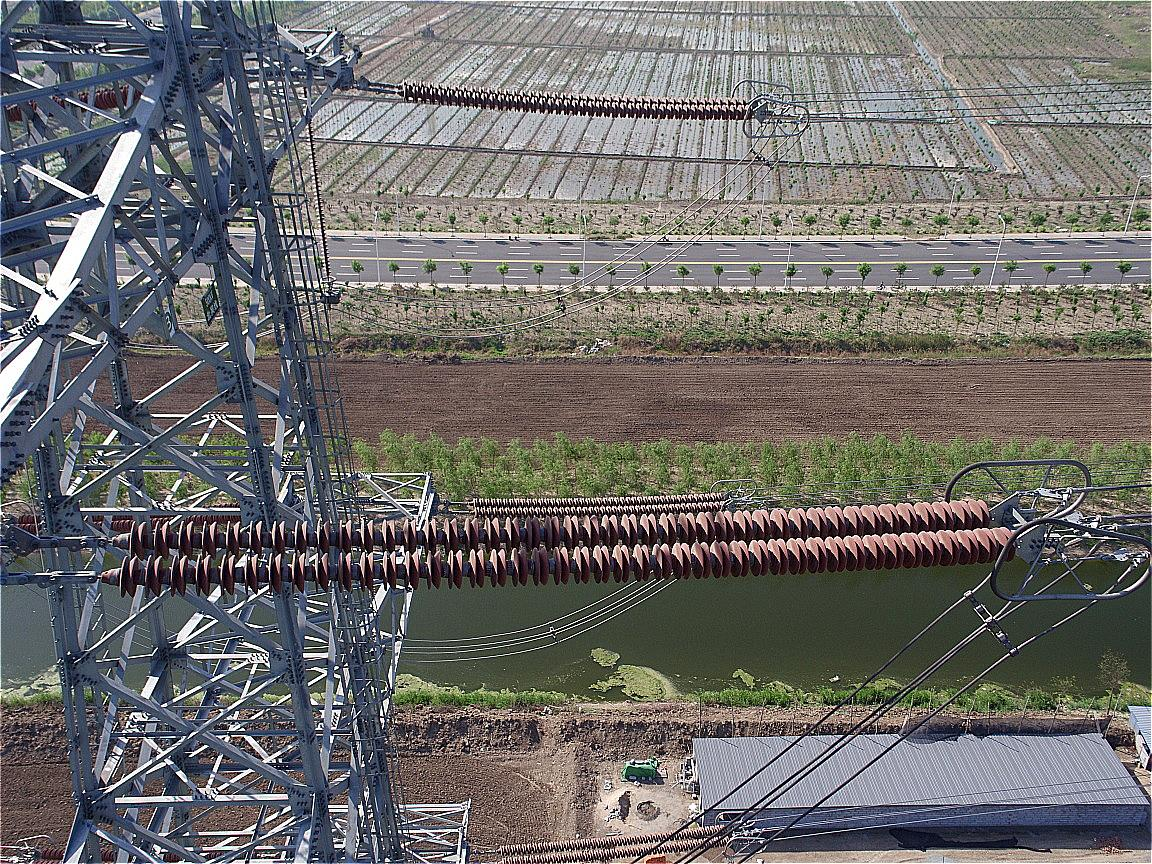insultor2: (99, 490, 1030, 601), (388, 67, 776, 127)
